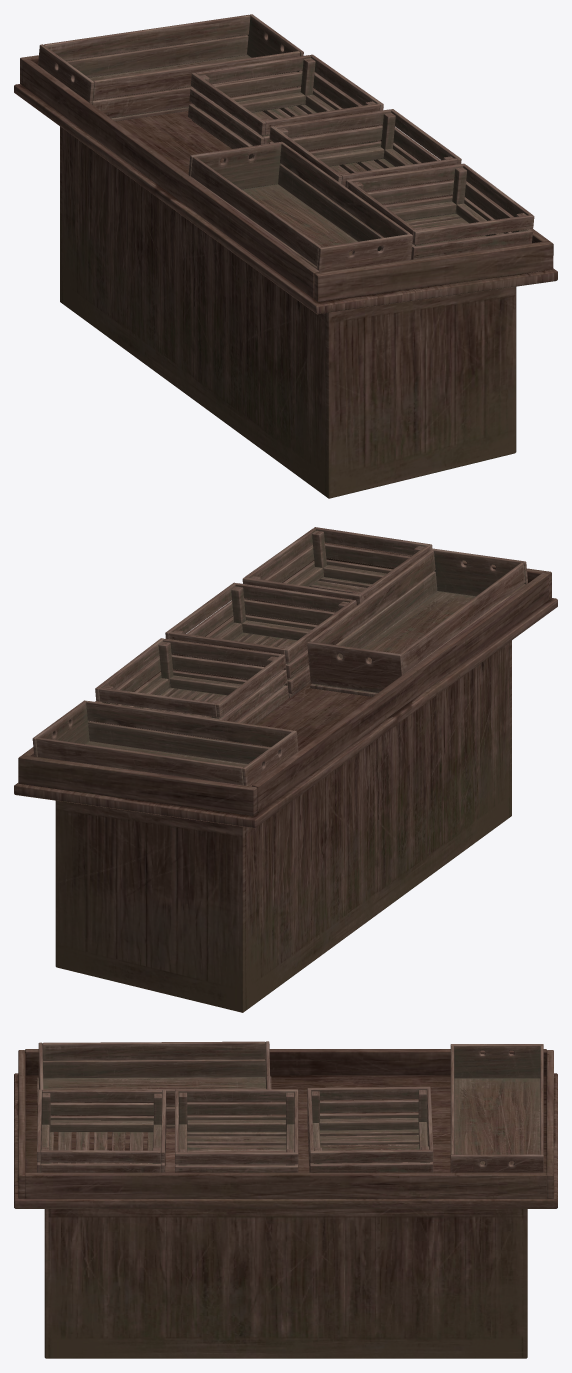
Rendered from Caja de madera.fbx.
3 renders of one model, top to bottom at view 1: azimuth 30°, elevation 25°; view 2: azimuth 150°, elevation 25°; view 3: azimuth 270°, elevation 25°, orthographic. The views are drawn at different scales.
Parts seen in each view (by area): view 1: Table_1_lp_lambert2_0, box_l3_lp2_lambert2_0, box_l3_lp1_lambert2_0, box_s6_lp1_lambert2_0, box_s6_lp3_lambert2_0, Table_2_lp_lambert2_0, Table_3_lp_lambert2_0, box_s6_lp2_lambert2_0; view 2: Table_1_lp_lambert2_0, box_l3_lp1_lambert2_0, box_l3_lp2_lambert2_0, box_s6_lp1_lambert2_0, Table_2_lp_lambert2_0, Table_3_lp_lambert2_0, box_s6_lp2_lambert2_0, box_s6_lp3_lambert2_0; view 3: Table_1_lp_lambert2_0, Table_3_lp_lambert2_0, Table_2_lp_lambert2_0, box_l3_lp1_lambert2_0, box_l3_lp2_lambert2_0, box_s6_lp1_lambert2_0, box_s6_lp2_lambert2_0, box_s6_lp3_lambert2_0.
Part boxes in pixels (bbox=[...]): Table_1_lp_lambert2_0: bbox=[20, 55, 553, 498]; box_l3_lp2_lambert2_0: bbox=[38, 14, 303, 121]; box_l3_lp1_lambert2_0: bbox=[188, 141, 412, 272]; box_s6_lp1_lambert2_0: bbox=[188, 54, 383, 158]; box_s6_lp3_lambert2_0: bbox=[345, 163, 534, 259]; Table_2_lp_lambert2_0: bbox=[14, 84, 557, 314]; Table_3_lp_lambert2_0: bbox=[23, 36, 548, 298]; box_s6_lp2_lambert2_0: bbox=[269, 109, 461, 205]; Table_1_lp_lambert2_0: bbox=[18, 542, 551, 1012]; box_l3_lp1_lambert2_0: bbox=[307, 548, 527, 696]; box_l3_lp2_lambert2_0: bbox=[32, 700, 298, 786]; box_s6_lp1_lambert2_0: bbox=[95, 638, 288, 741]; Table_2_lp_lambert2_0: bbox=[14, 598, 557, 828]; Table_3_lp_lambert2_0: bbox=[23, 544, 548, 812]; box_s6_lp2_lambert2_0: bbox=[165, 582, 356, 697]; box_s6_lp3_lambert2_0: bbox=[242, 527, 432, 625]; Table_1_lp_lambert2_0: bbox=[18, 1050, 553, 1358]; Table_3_lp_lambert2_0: bbox=[25, 1049, 546, 1198]; Table_2_lp_lambert2_0: bbox=[14, 1073, 557, 1208]; box_l3_lp1_lambert2_0: bbox=[37, 1041, 271, 1128]; box_l3_lp2_lambert2_0: bbox=[450, 1044, 543, 1172]; box_s6_lp1_lambert2_0: bbox=[307, 1086, 433, 1172]; box_s6_lp2_lambert2_0: bbox=[175, 1089, 298, 1172]; box_s6_lp3_lambert2_0: bbox=[37, 1089, 166, 1172].
Bounding box in the file's own units: 621 × 626 × 1345.
1 material, 1 textured.
